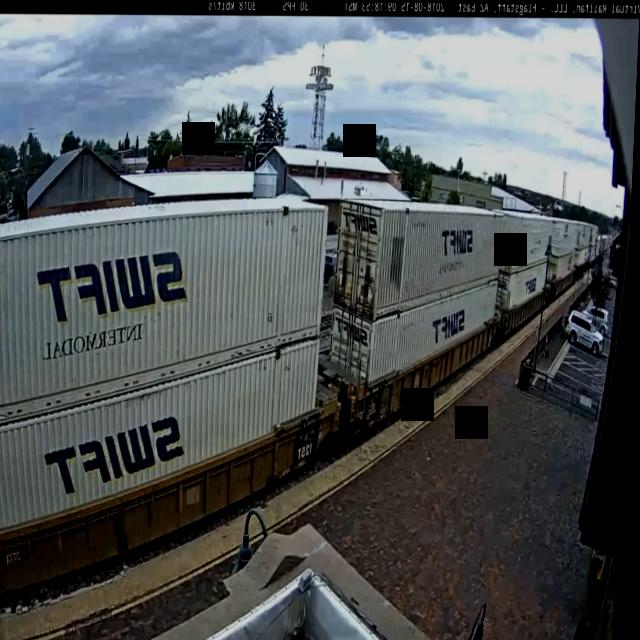container: (0, 188, 334, 437), (0, 328, 330, 550), (333, 193, 508, 324), (328, 275, 502, 395)
flatcar: (0, 382, 347, 626), (343, 304, 504, 446)
